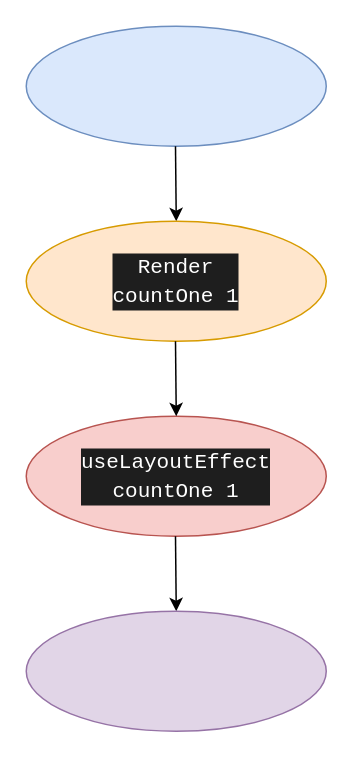
Image size: 353x758. Some labels were removed from this diagram. The shapes that lost their labels are listed below. From the top down, each one's centre as x and y in pixels, then its label:
the point at 175,85: Function before countOne 0
the point at 175,670: Function after countOne 0
